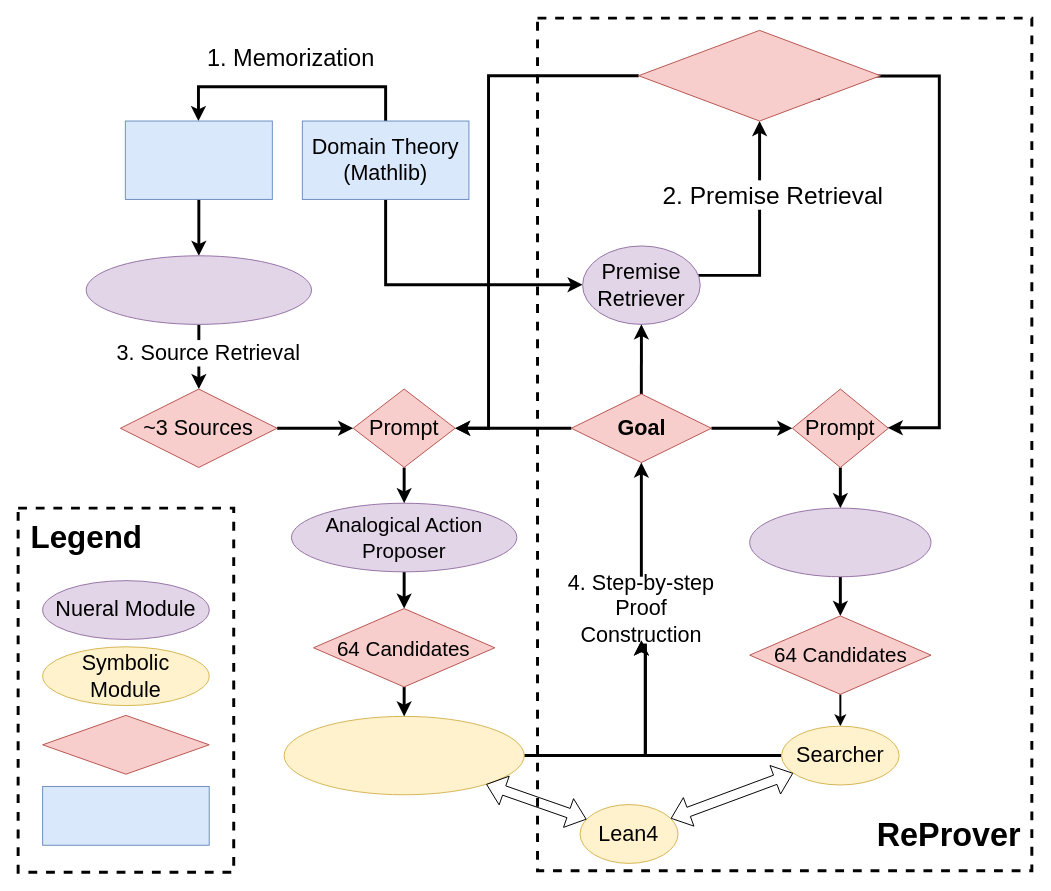
Some shapes in this 1051 by 891 pixel diagram are drawn without their labels. The centre of each missing label's shape, as x and y in pixels:
"100 pieces of Domain Theory" goes at point (759, 75).
"Action Proposer" goes at point (840, 542).
"Divide-and-Conquar Searcher" goes at point (403, 755).
"Instance" goes at point (125, 744).
"Knowledge Base" goes at point (198, 159).
"Source Retriever" goes at point (198, 289).
"Symbolic Knowledge" goes at point (125, 815).
